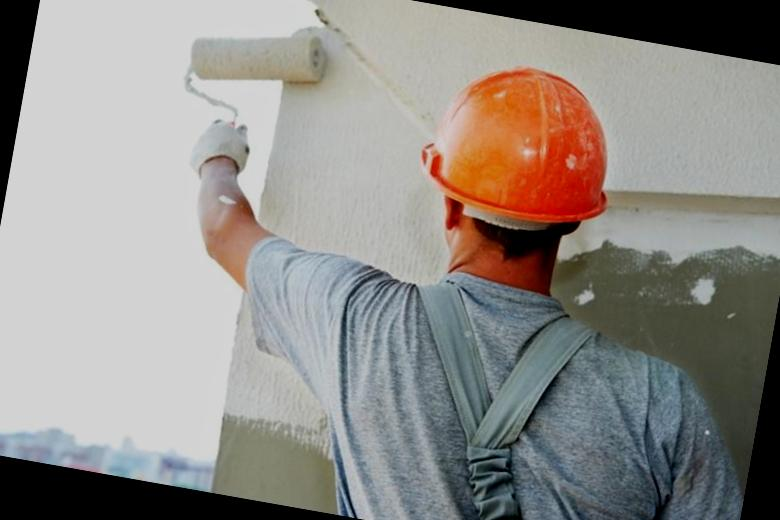helmet: (399, 46, 655, 239)
no_vest: (265, 232, 770, 520)
person: (295, 18, 780, 520)
